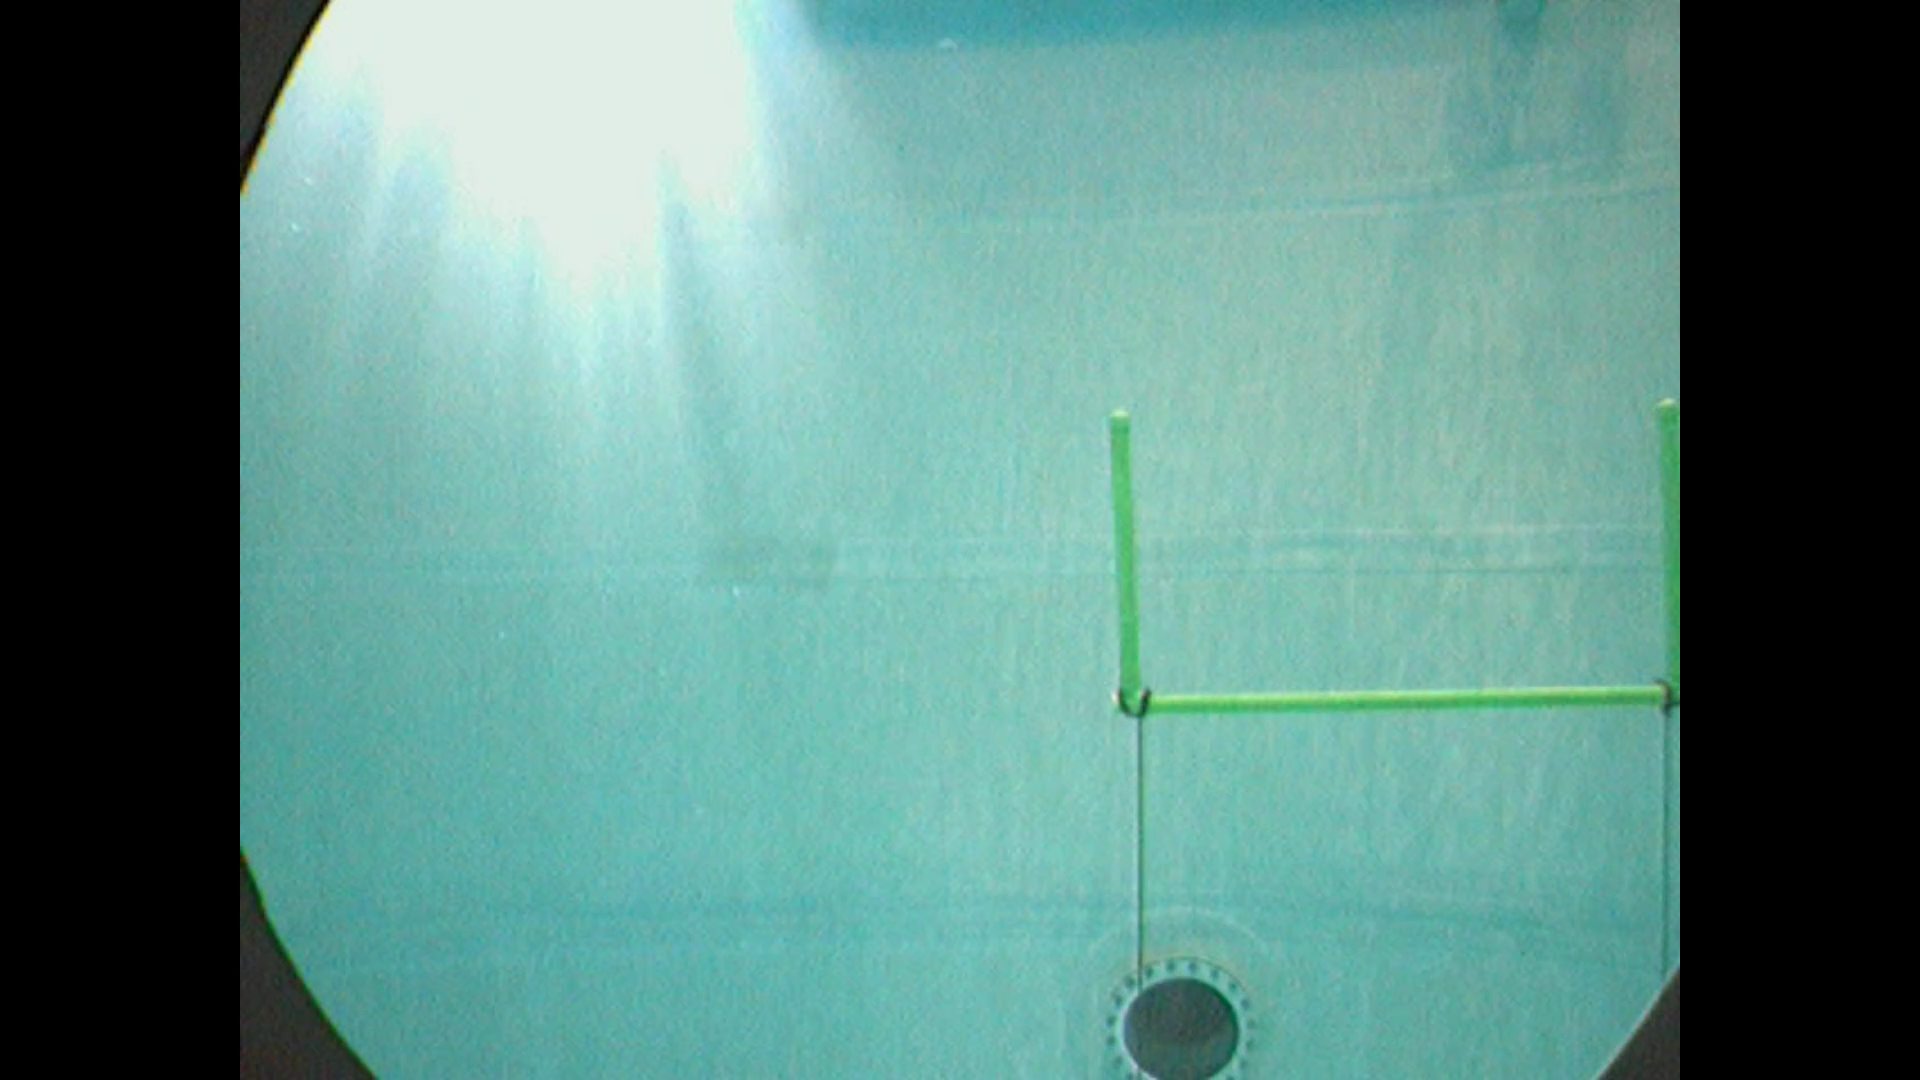gate: (1104, 400, 1681, 713)
